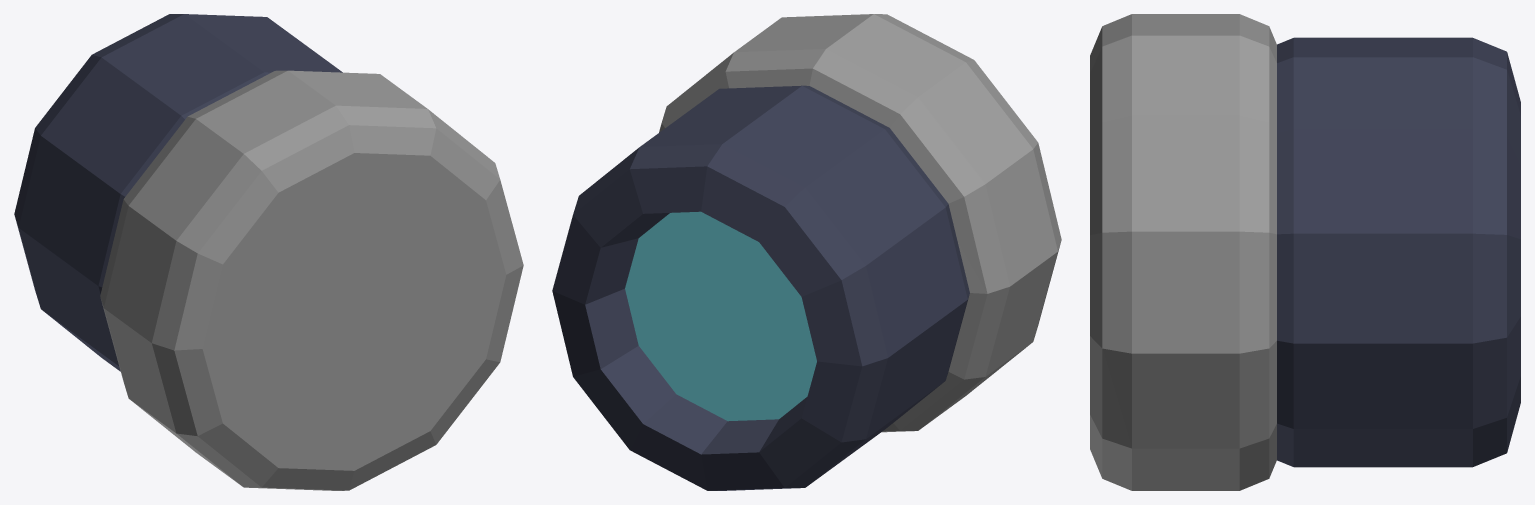
Rendered from engine_ion.obj.
The picture shows the model from 3 angles, left to right: view 1: azimuth 30°, elevation 25°; view 2: azimuth 150°, elevation 25°; view 3: azimuth 270°, elevation 25°; orthographic projection. The views are drawn at different scales.
Bounding box in the file's own units: 0.8 × 0.8 × 0.72.
